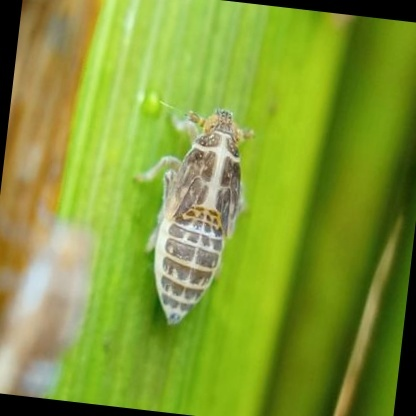Brown_hopper: (105, 93, 275, 347)
